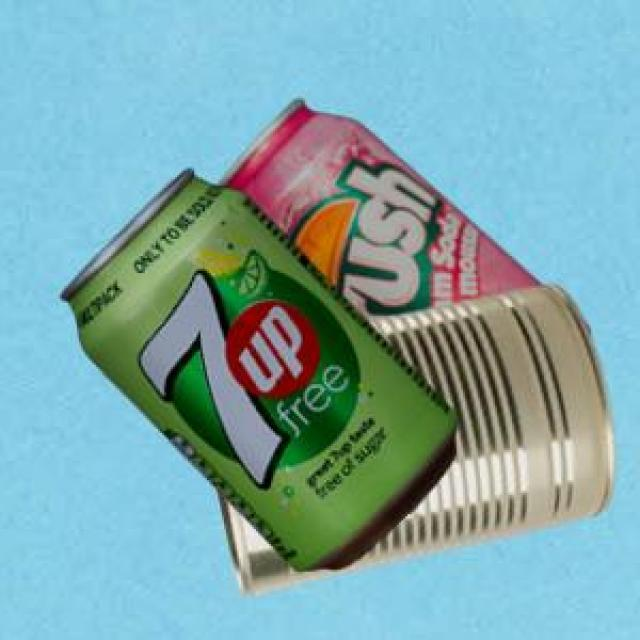Can: (59, 165, 455, 569), (215, 283, 611, 592), (214, 97, 539, 319)
